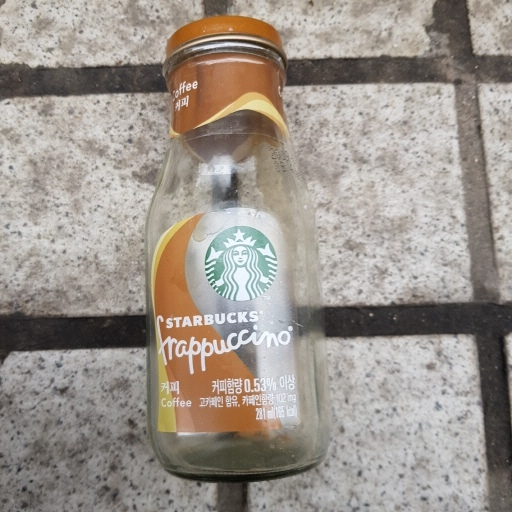Glass_4: (139, 16, 337, 484)
